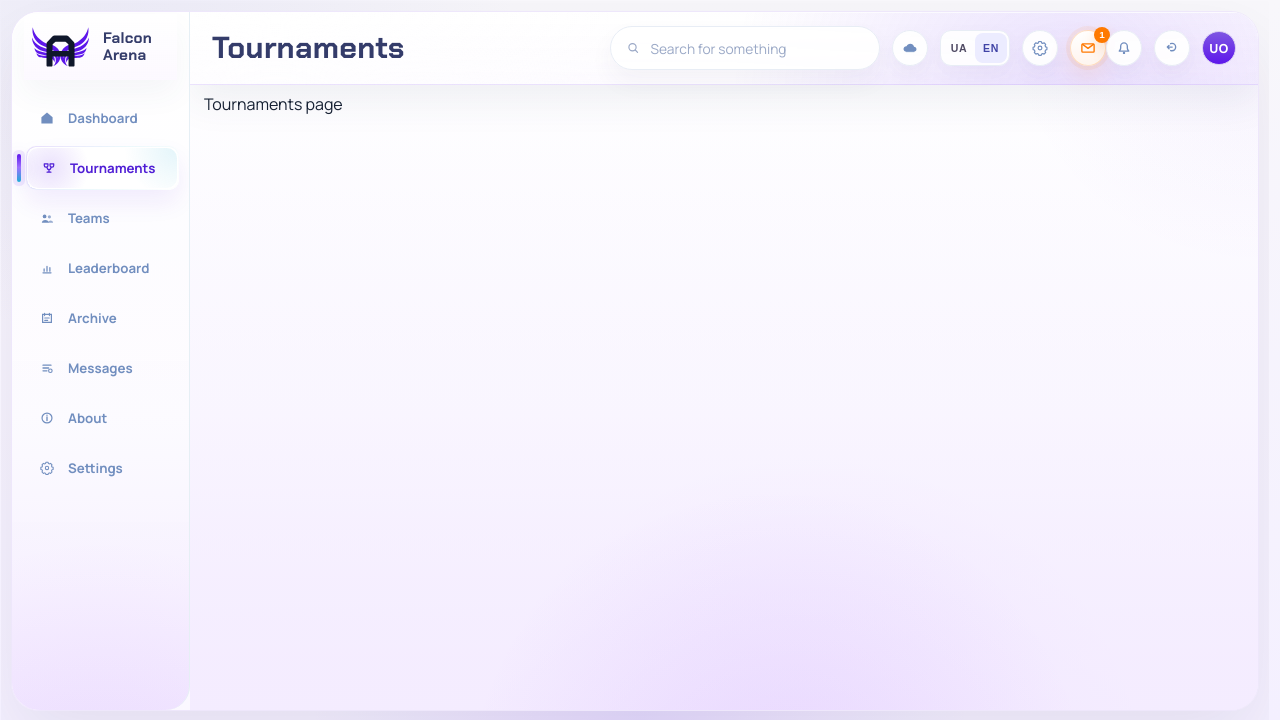
AppShell › shows unread direct messages badge and opens dialogs section
Expected: the text "1" is shown, [1094,27,1110,43]
Expected: the text with class "app-topbar-mail-badge" reads "1", [1099,29,1105,40]
Click the button named "Direct messages": (1088, 48) [1070,30,1106,66]
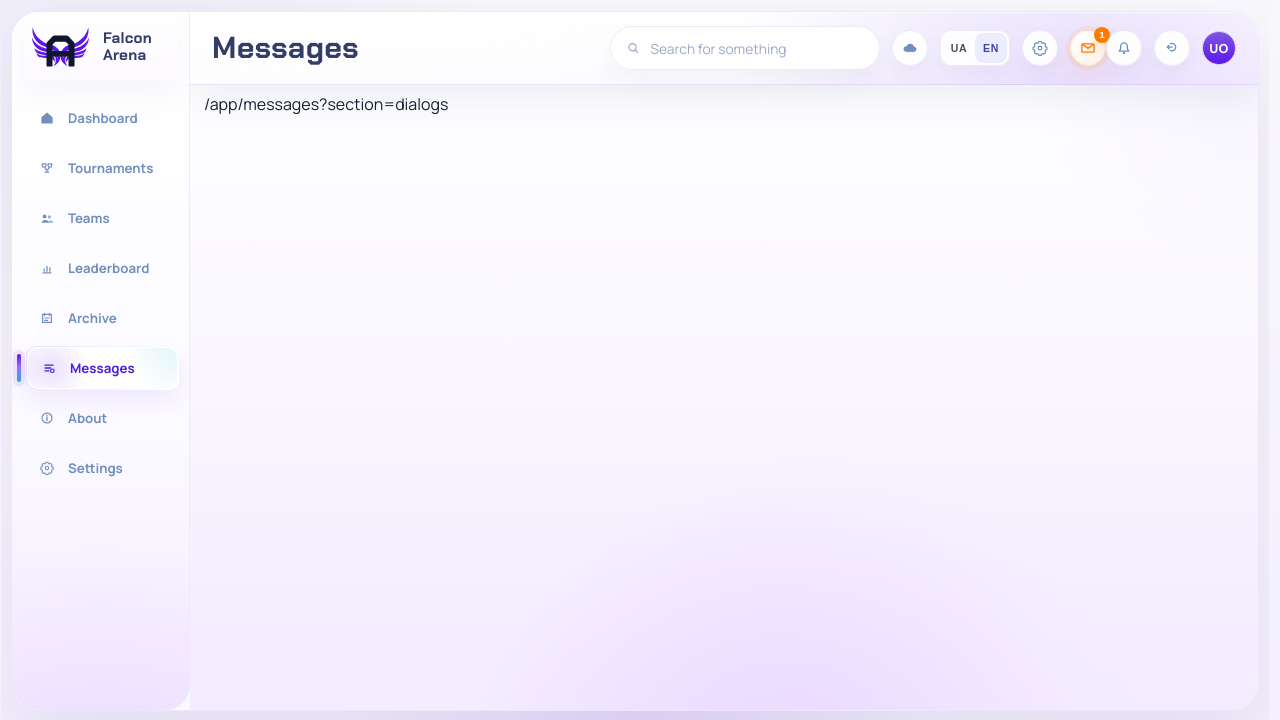
Expected: the text with test id "location-probe" reads "/app/messages?section=dialogs", [204,93,448,115]
